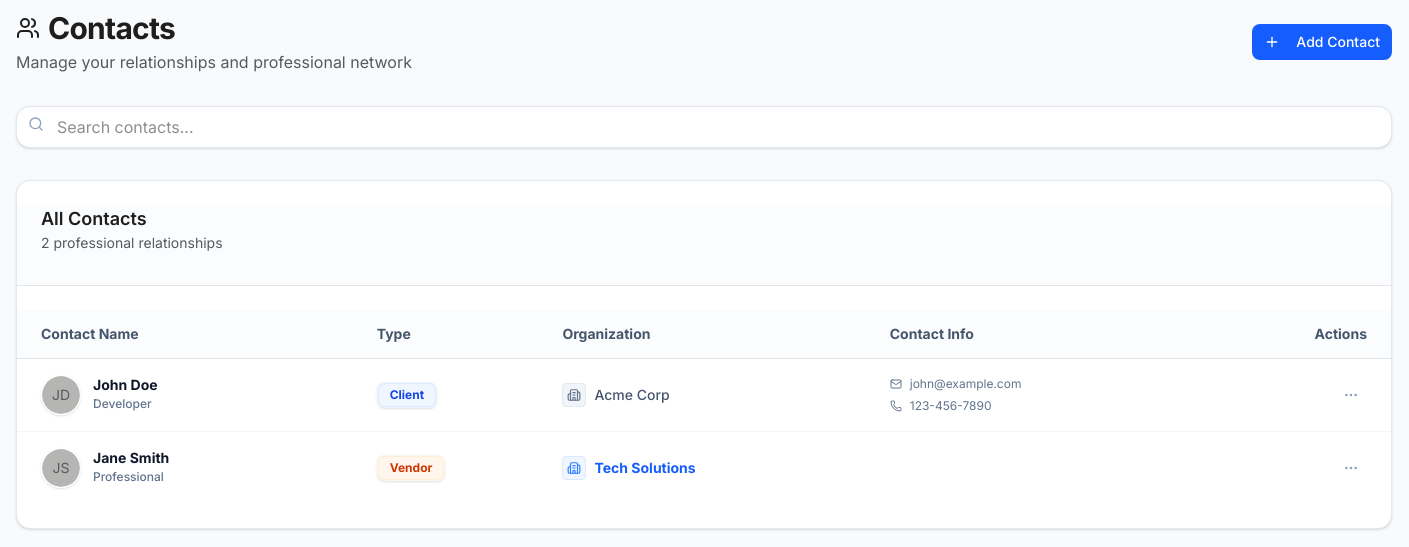
ContactsClientPage › filters contacts when typing in the search input
Type "john" into the field with placeholder "Search contacts..." at (704, 127), box [16,106,1392,148]
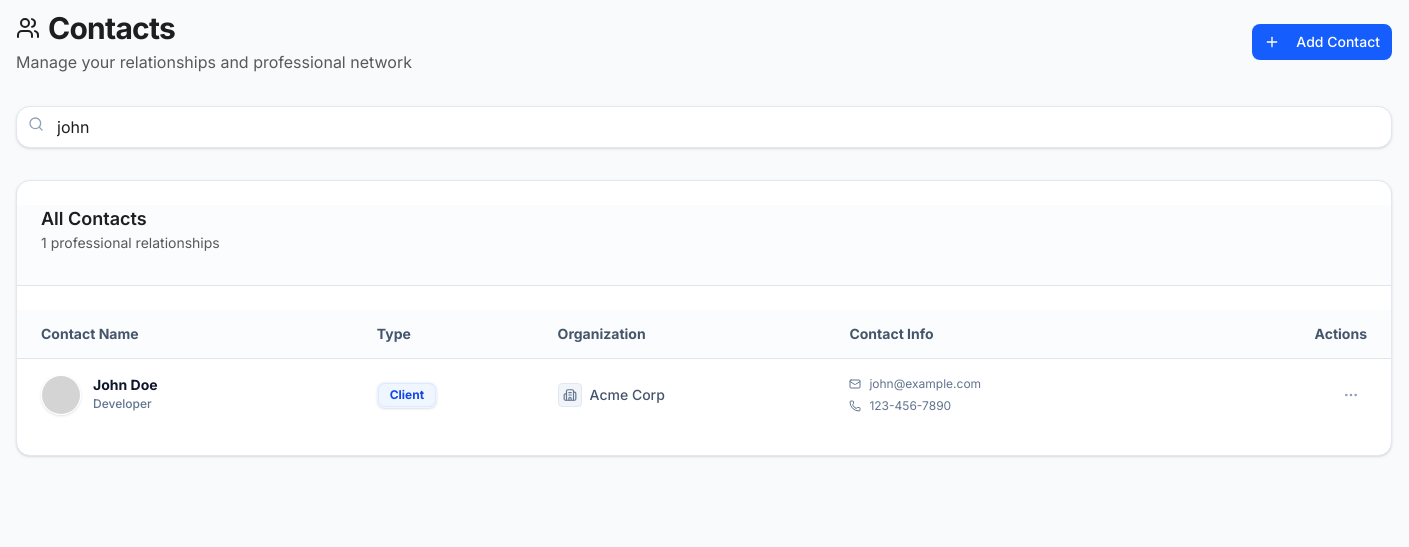
Check: the text "John Doe" is shown, box [93,378,158,392]
Check: the link "Jane Smith" is gone
